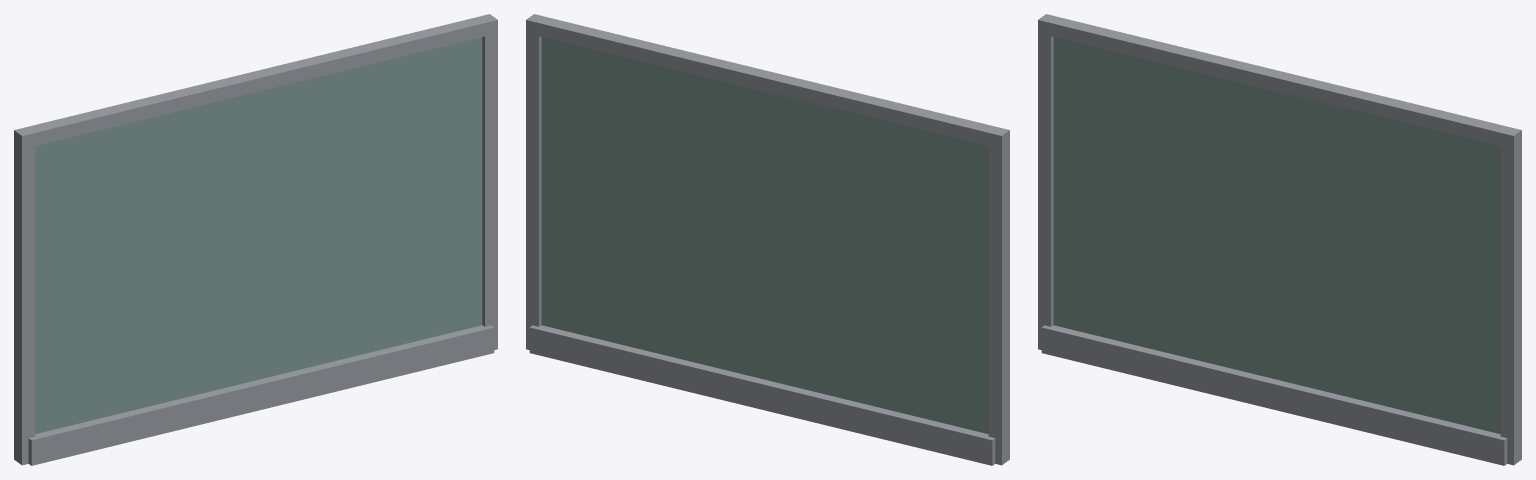
File: Prop_TellerDesk_Barrier_02.glb
3 renders of one model, left to right at view 1: azimuth 30°, elevation 25°; view 2: azimuth 150°, elevation 25°; view 3: azimuth 330°, elevation 25°, orthographic.
Visible parts, largest first — view 1: SM_Prop_TellerDesk_Barrier_Glass_02, SM_Prop_TellerDesk_Barrier_02; view 2: SM_Prop_TellerDesk_Barrier_Glass_02, SM_Prop_TellerDesk_Barrier_02; view 3: SM_Prop_TellerDesk_Barrier_Glass_02, SM_Prop_TellerDesk_Barrier_02.
Part boxes in pixels (x1,y1,x2,y2): SM_Prop_TellerDesk_Barrier_Glass_02: (35, 37, 482, 433); SM_Prop_TellerDesk_Barrier_02: (14, 14, 497, 465); SM_Prop_TellerDesk_Barrier_Glass_02: (541, 37, 988, 433); SM_Prop_TellerDesk_Barrier_02: (526, 14, 1009, 465); SM_Prop_TellerDesk_Barrier_Glass_02: (1053, 37, 1500, 433); SM_Prop_TellerDesk_Barrier_02: (1038, 14, 1521, 465).
Size of the model in its own units: 1.73 by 1.15 by 0.0881.
Materials: 2 (1 with a texture image).
